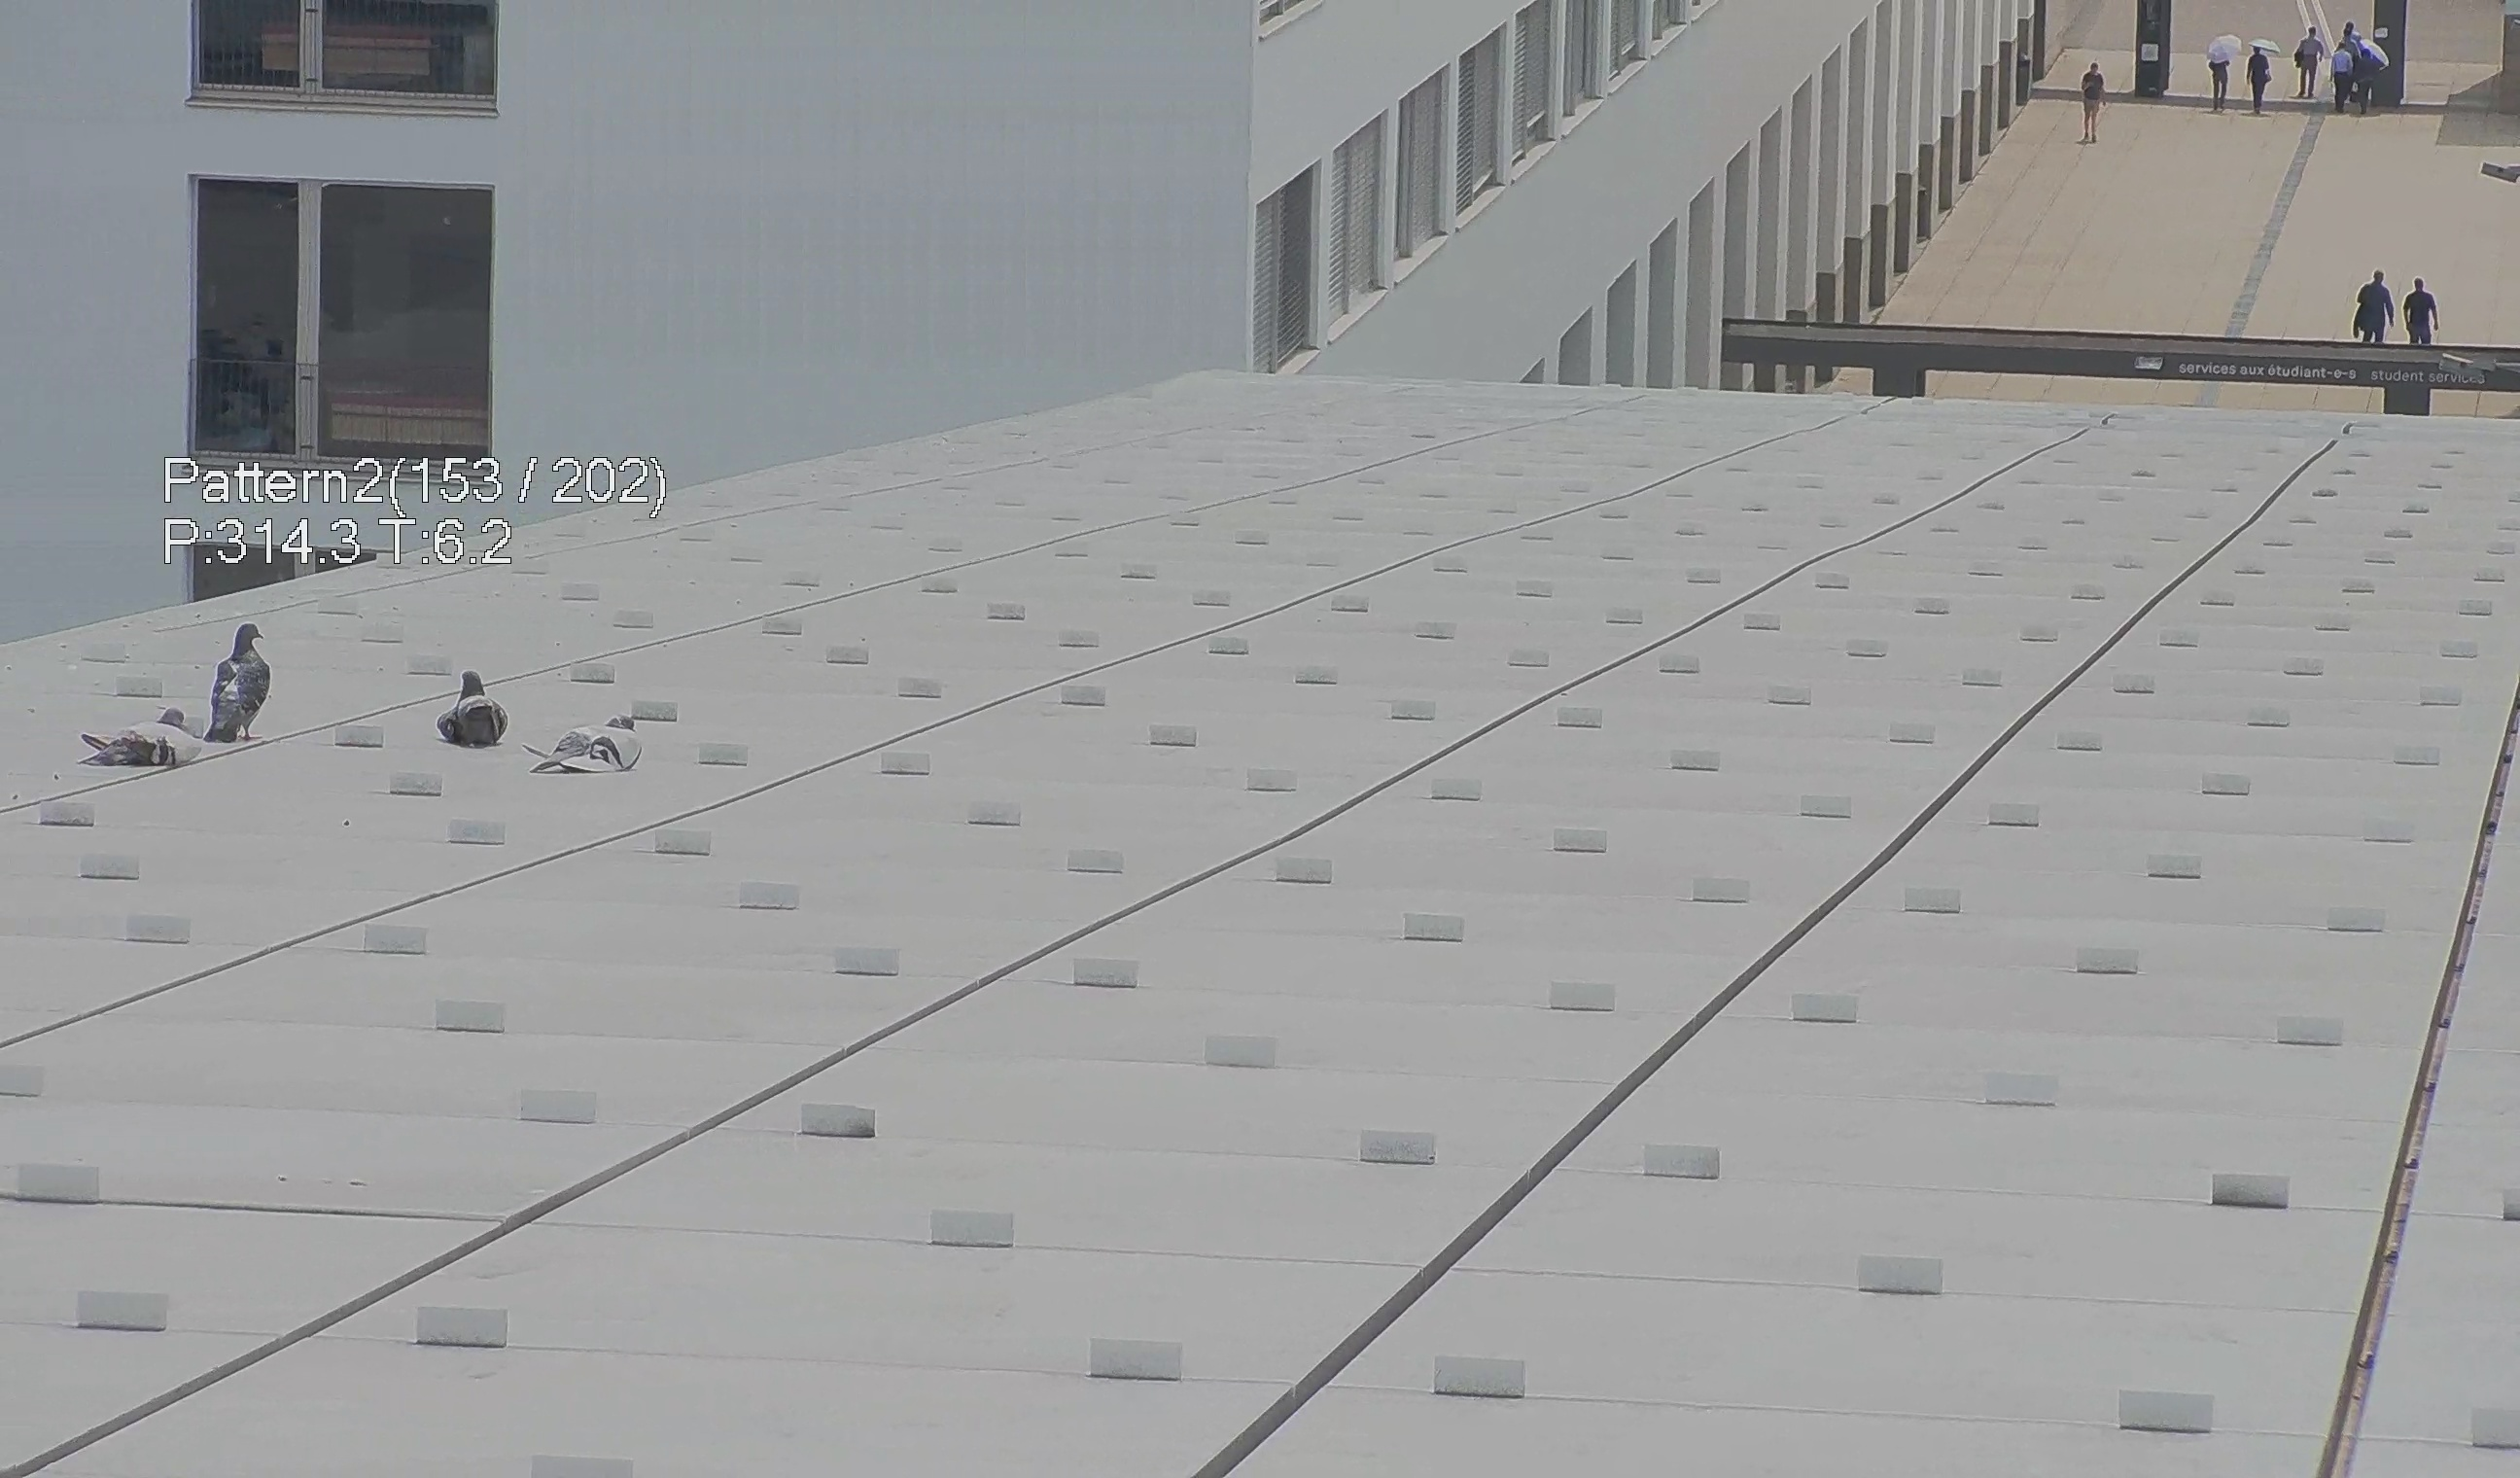Pigeon: (192, 621, 281, 758), (521, 706, 658, 788), (74, 704, 208, 781), (424, 660, 517, 757)
